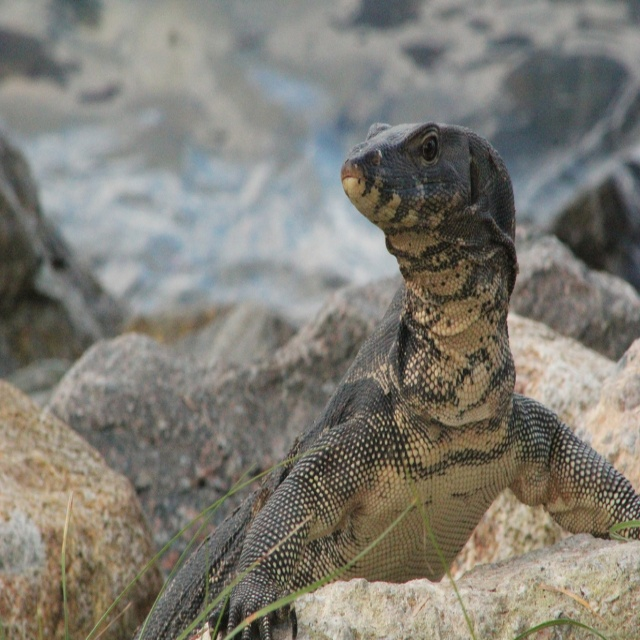Lizard: (132, 121, 640, 640)
